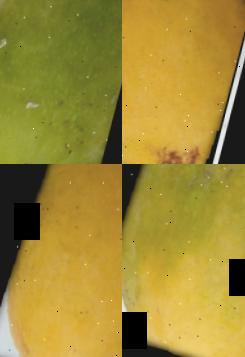PartiallyRipe: (122, 164, 245, 357)
Ripe: (0, 164, 122, 357), (122, 0, 245, 164)
Unripe: (0, 0, 122, 164)
